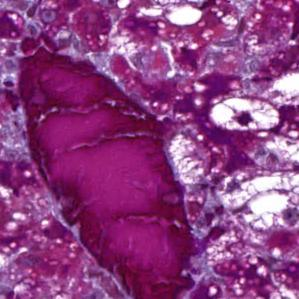ballooning: (213, 171, 295, 234), (209, 94, 285, 135)
